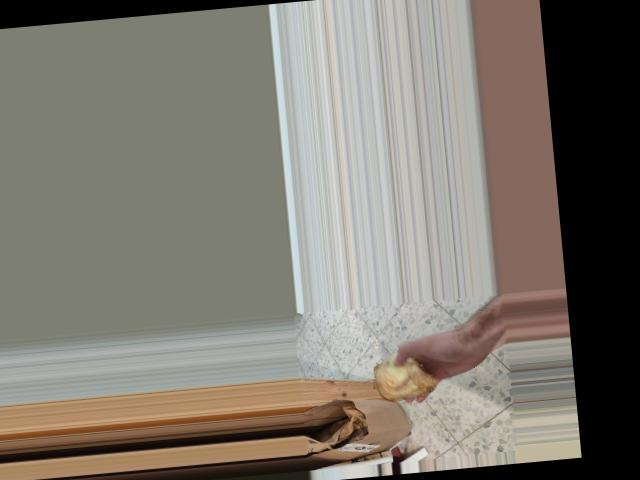onion: (368, 347, 441, 403)
